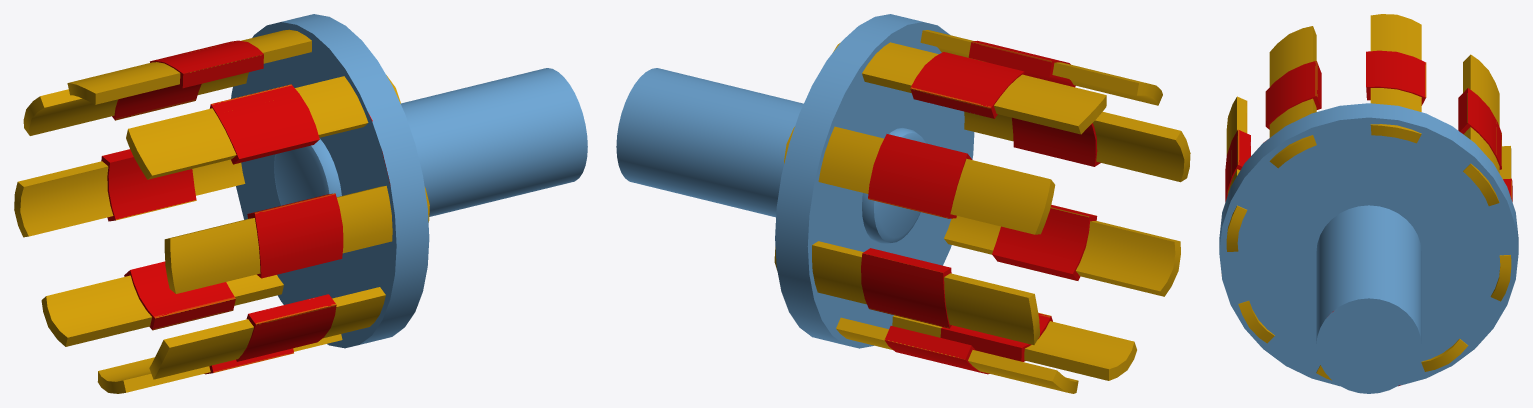
The model's file is ring L 2.fbx.
The picture shows the model from 3 angles, left to right: view 1: azimuth 30°, elevation 25°; view 2: azimuth 150°, elevation 25°; view 3: azimuth 270°, elevation 25°; orthographic projection. The views are drawn at different scales.
Visible parts, largest first — view 1: ring L; view 2: ring L; view 3: ring L.
Part boxes in pixels (left/top/right/bottom): ring L: left=14, top=14, right=587, bottom=393; ring L: left=616, top=14, right=1190, bottom=393; ring L: left=1219, top=14, right=1518, bottom=393.
Bounding box in the file's own units: 3136 × 1948 × 1948.
